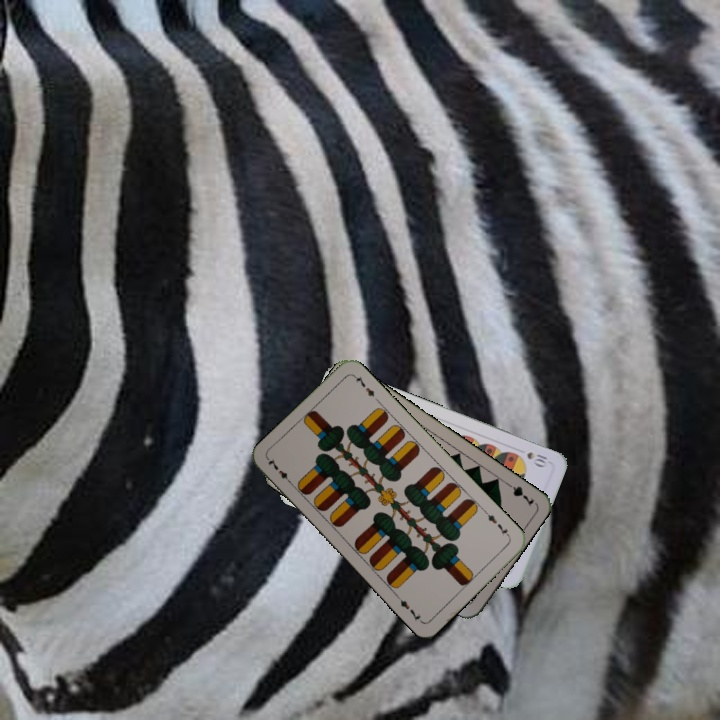E7: (481, 507, 513, 540), (264, 454, 295, 488)
G7: (501, 478, 537, 509)
S10: (523, 448, 550, 469)
